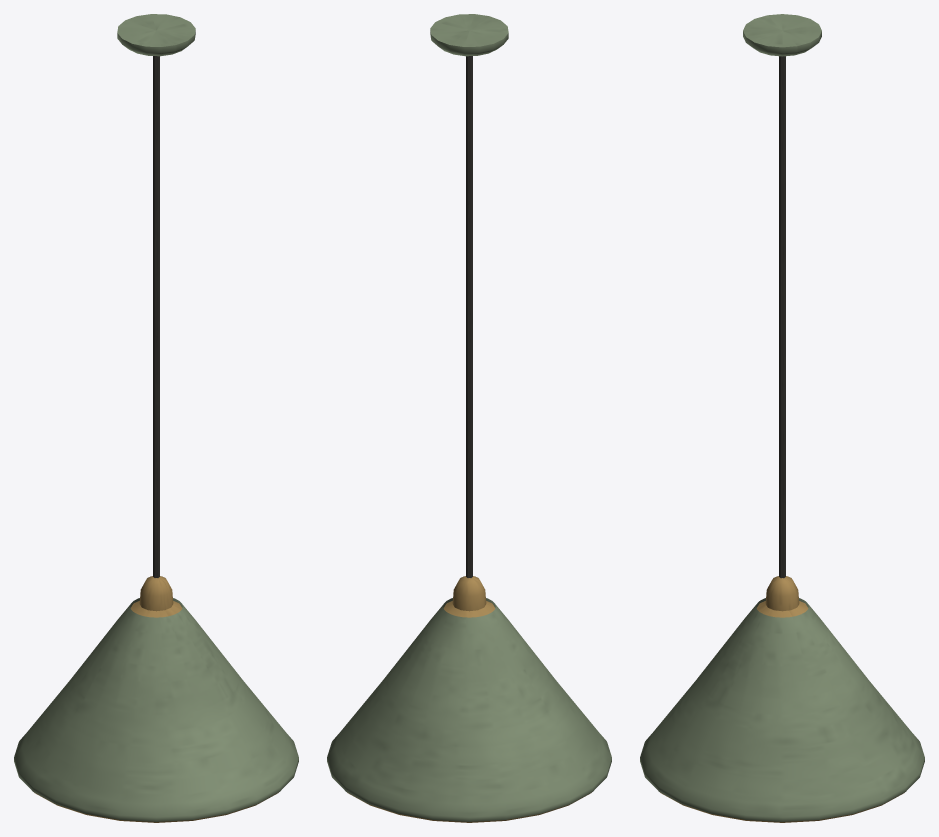
The model's file is hq-pendant.glb.
The picture shows the model from 3 angles, left to right: view 1: azimuth 30°, elevation 25°; view 2: azimuth 150°, elevation 25°; view 3: azimuth 270°, elevation 25°; orthographic projection.
Parts seen in each view (by area): view 1: hq-pendant; view 2: hq-pendant; view 3: hq-pendant.
Boxes of the visible parts, x1,y1,x2,y2 form: hq-pendant: [14, 14, 298, 822]; hq-pendant: [327, 14, 611, 822]; hq-pendant: [640, 14, 924, 822].
Bounding box in the file's own units: 0.54 × 1.53 × 0.54.
Materials: 2 (2 with a texture image).
